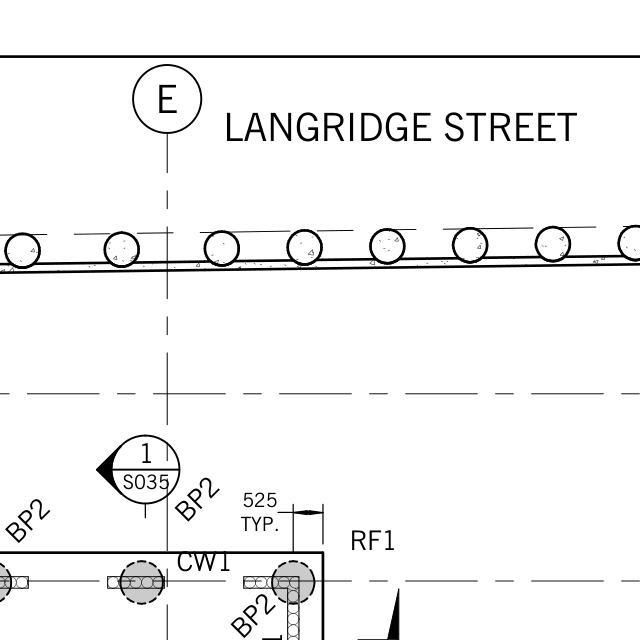BP2: (0, 480, 56, 545), (170, 474, 220, 521), (229, 591, 273, 636)
CW1: (176, 545, 239, 580)
RF1: (342, 516, 410, 562)
